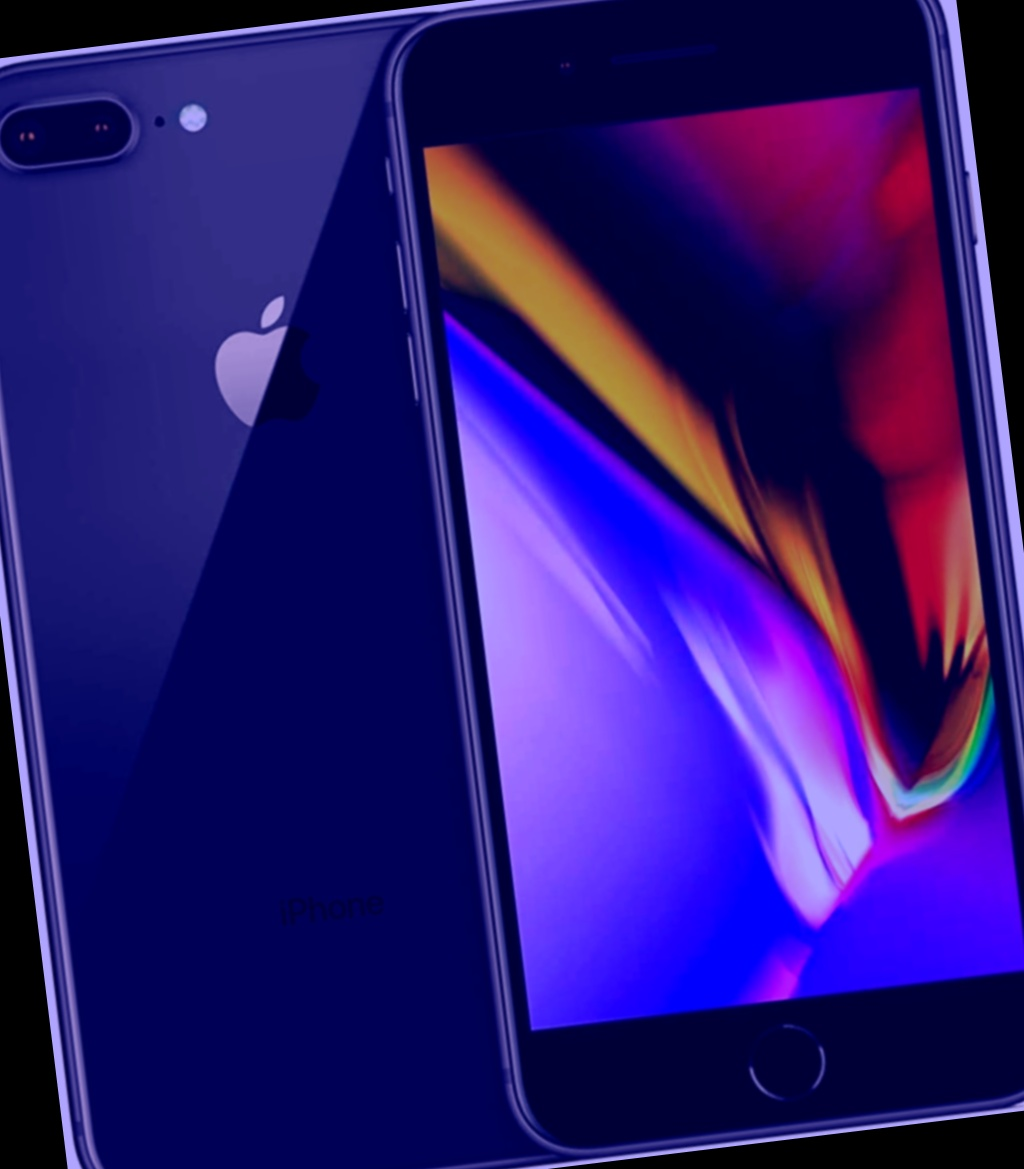iphone: (439, 7, 1019, 1163)
